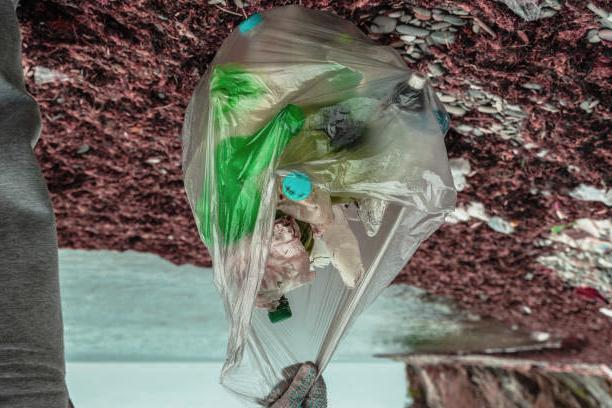Trash: (183, 9, 448, 389)
